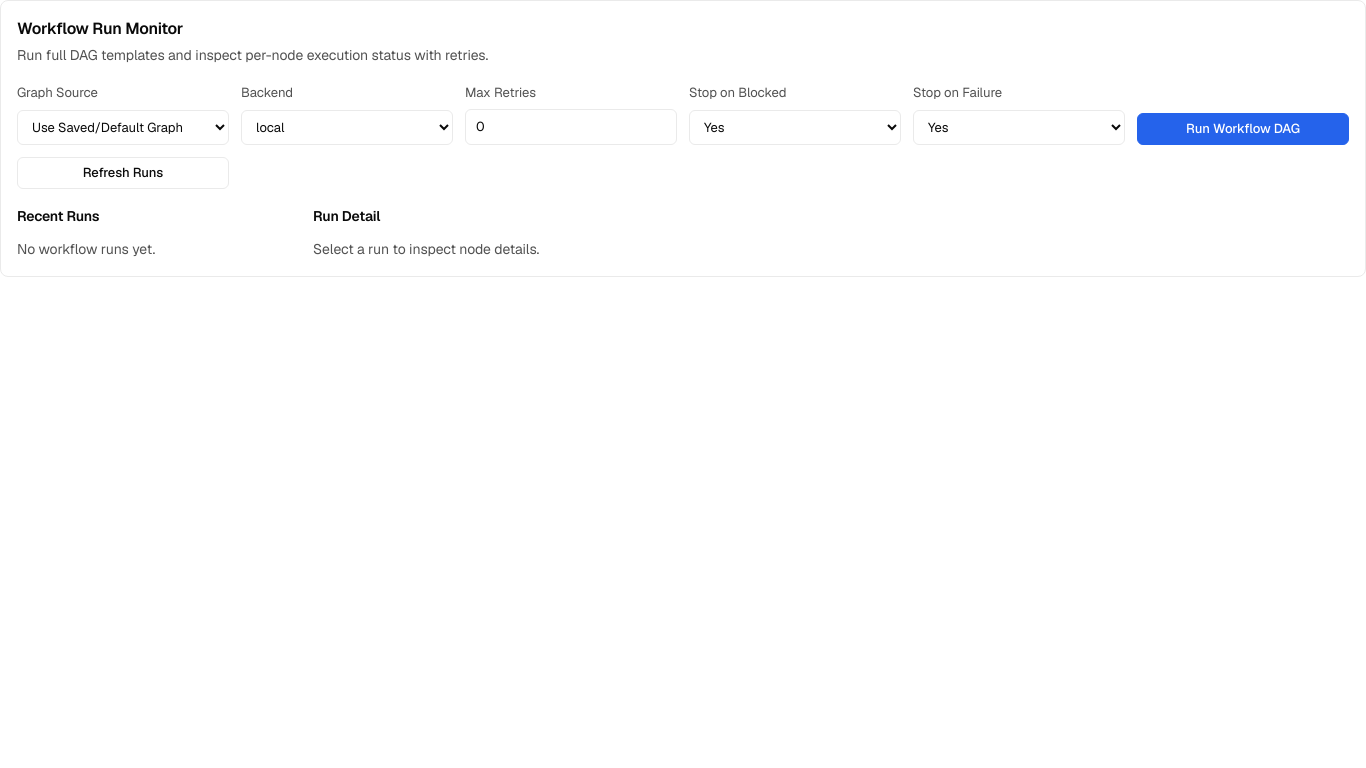
Test: WorkflowRunMonitor autopilot gate › blocks autopilot run when preflight gate fails
Select "Autopilot Chat Pipeline" in the dropdown labelled "Graph Source". click: (123,127)
box: x1=17 y1=110 x2=229 y2=144
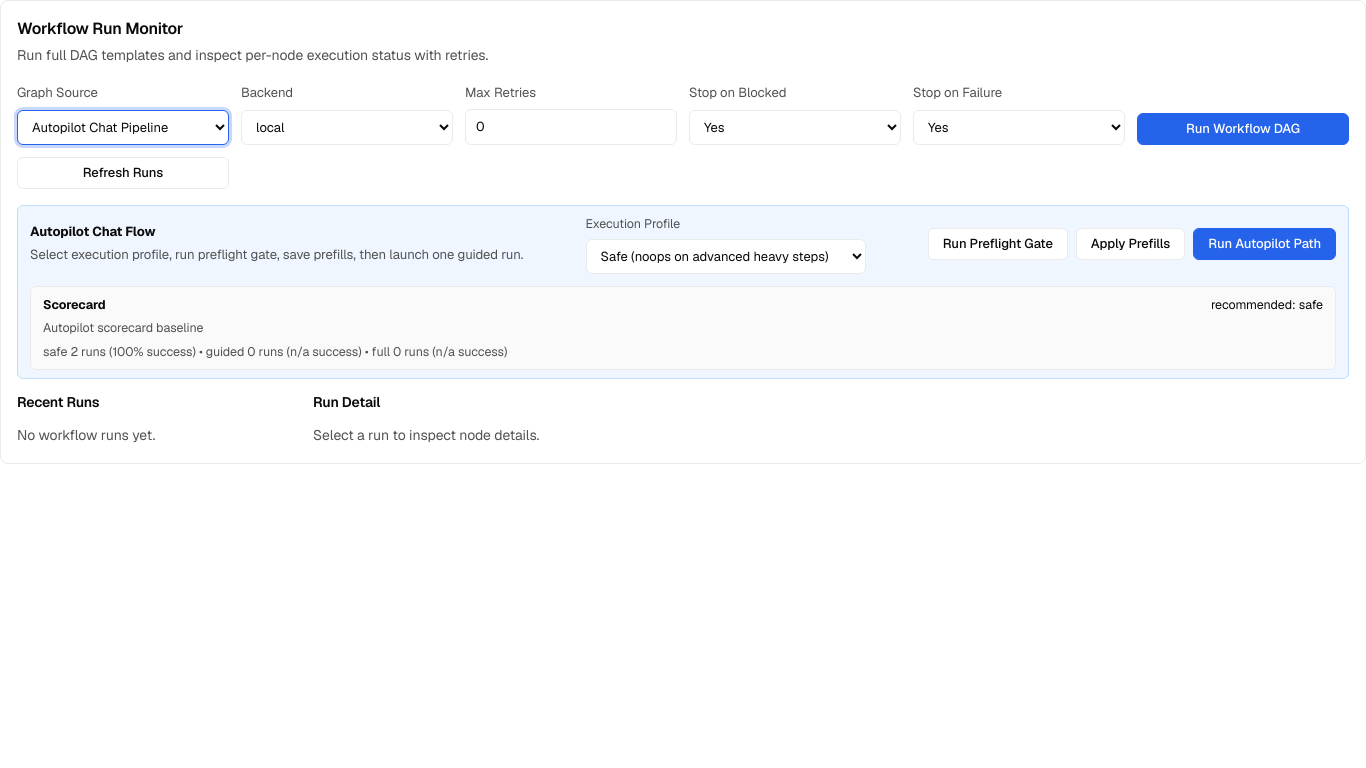
Check: the text "Autopilot Chat Flow" is shown, box x1=30 y1=223 x2=155 y2=240
Click the button "Run Autopilot Path". click: (1265,244)
box: x1=1193 y1=228 x2=1336 y2=260
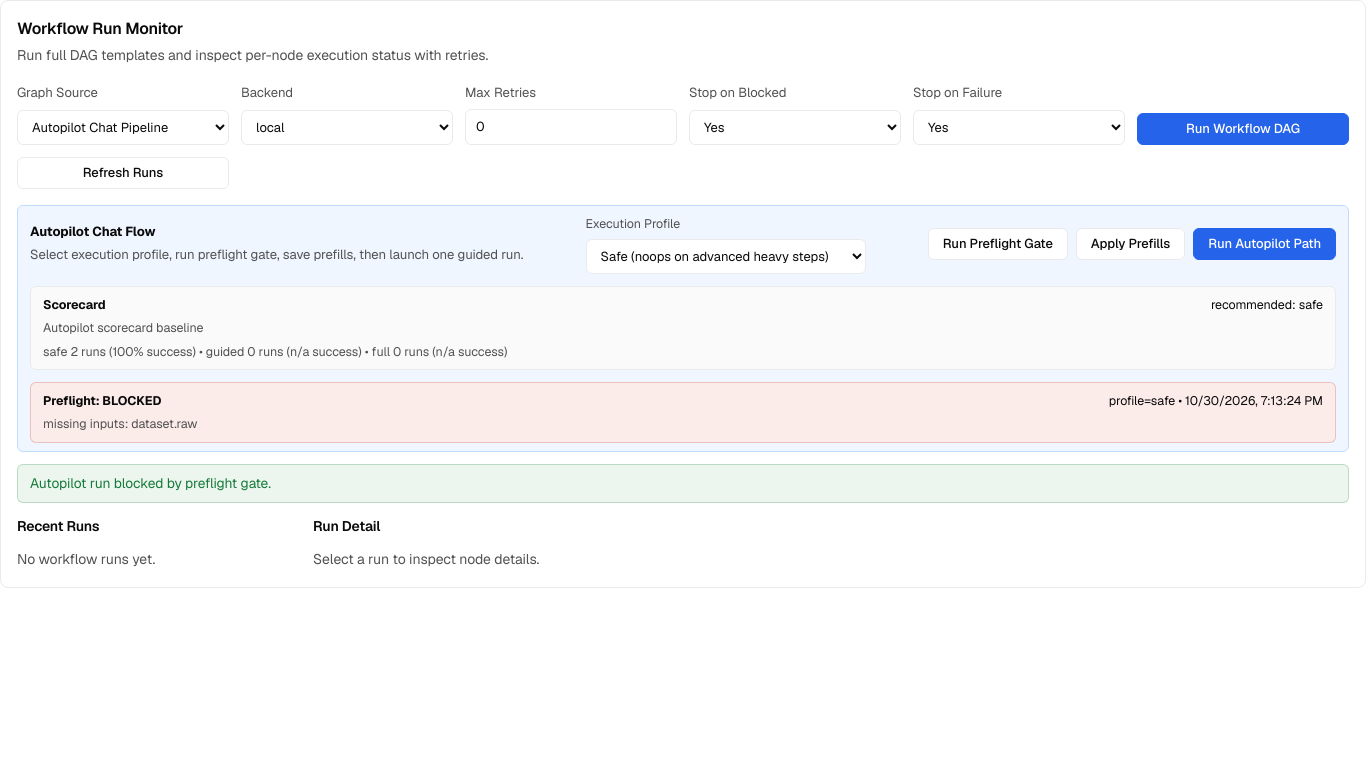
Check: the text "Autopilot run blocked by preflight gate." is shown, box x1=17 y1=464 x2=1349 y2=503
Check: the text "Preflight: BLOCKED" is shown, box x1=43 y1=391 x2=161 y2=410
